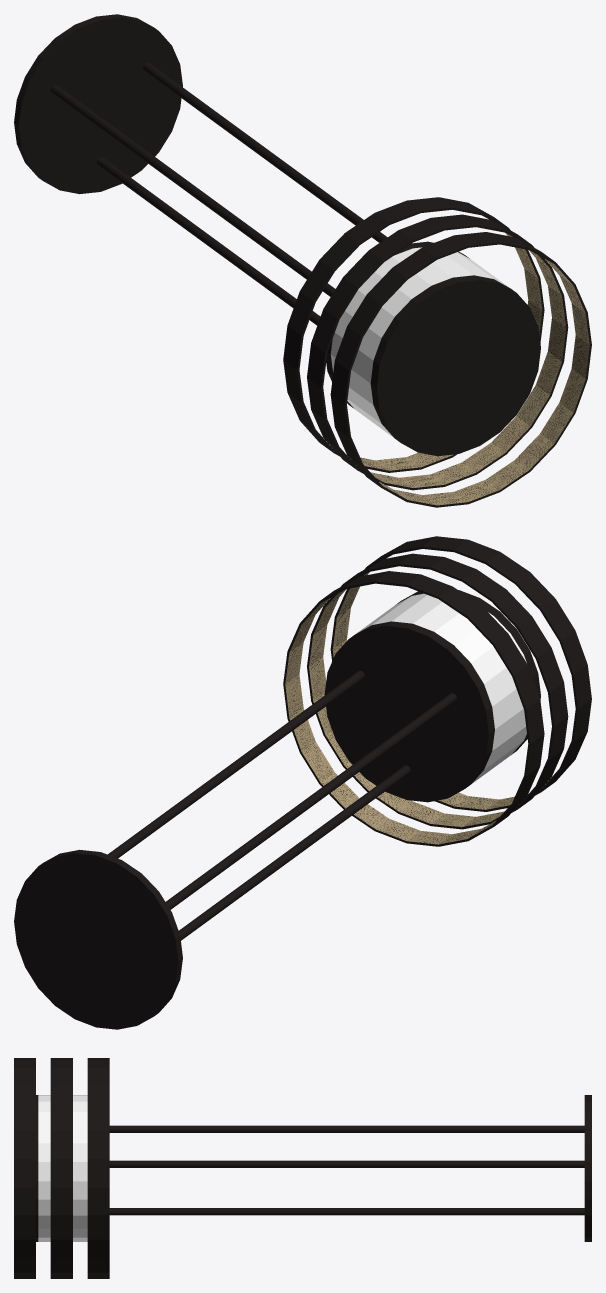
3 views of the same model, one above another, from view 1: azimuth 30°, elevation 25°; view 2: azimuth 150°, elevation 25°; view 3: azimuth 270°, elevation 25° (orthographic). The views are drawn at different scales.
Parts seen in each view (by area): view 1: giorgetti planet floor lamp; view 2: giorgetti planet floor lamp; view 3: giorgetti planet floor lamp.
Boxes of the visible parts, x1,y1,x2,y2 form: giorgetti planet floor lamp: (14, 14, 591, 507); giorgetti planet floor lamp: (14, 536, 591, 1029); giorgetti planet floor lamp: (14, 1058, 591, 1278).
Size of the model in its own units: 23.69 by 23.69 by 61.81.
